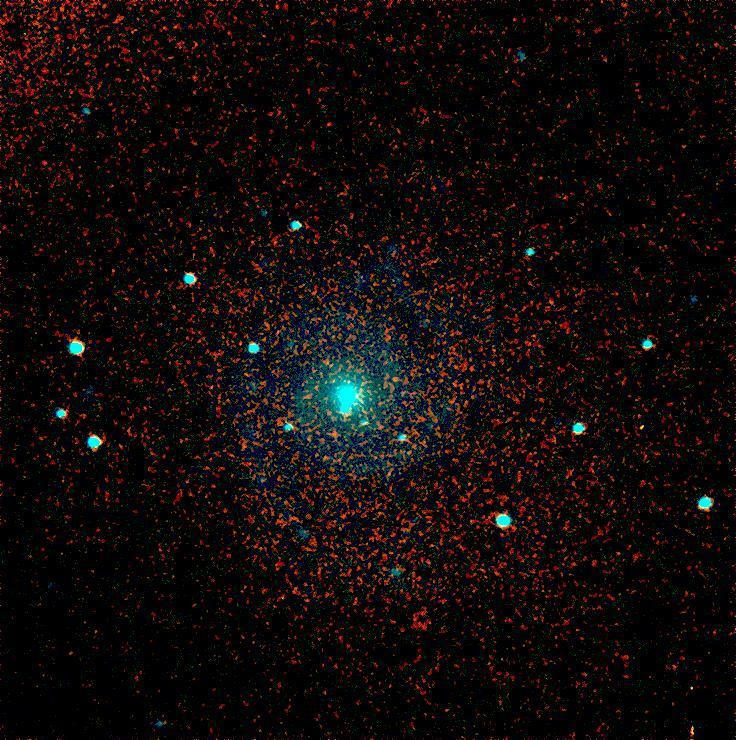star: (379, 358, 409, 388)
